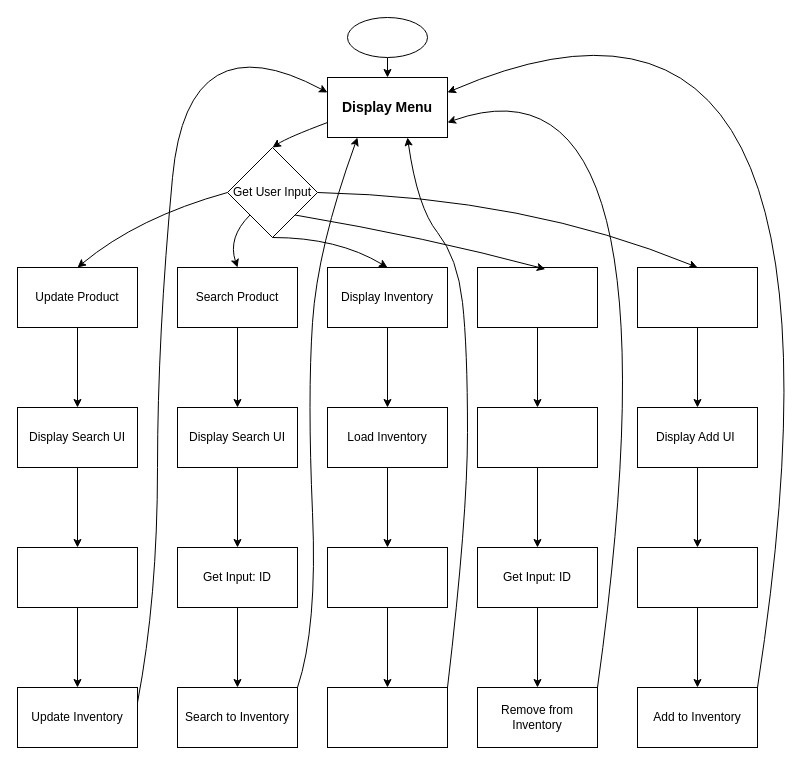
The diagram is 802 pixels wide and 765 high, and some of its shapes have lost their labels. Each missing label, with the centre of its shape:
"Add Product" belongs at [697,297].
"Display Inventory UI" belongs at [387,577].
"Display Remove UI" belongs at [537,437].
"Get Input: ID, New Data" belongs at [77,577].
"Get Input: Name, Category, Quantity, Price" belongs at [697,577].
"Remove Product" belongs at [537,297].
"Show all Products" belongs at [387,717].
"Start" belongs at [387,37].
